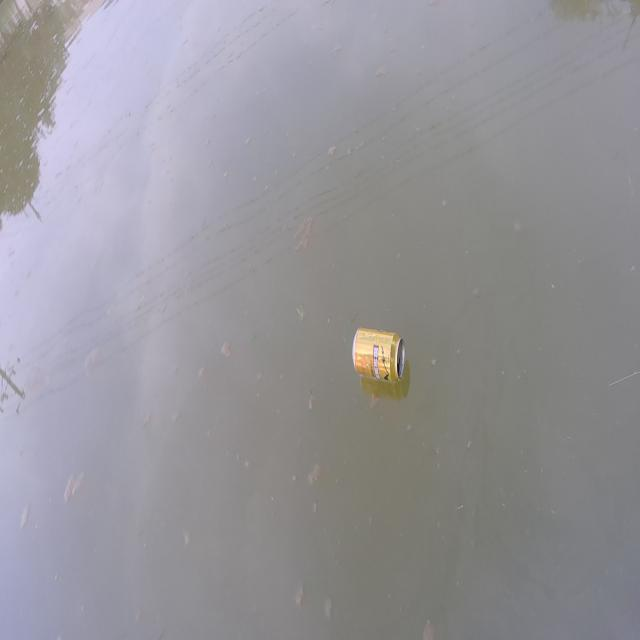Can: (349, 321, 406, 384)
